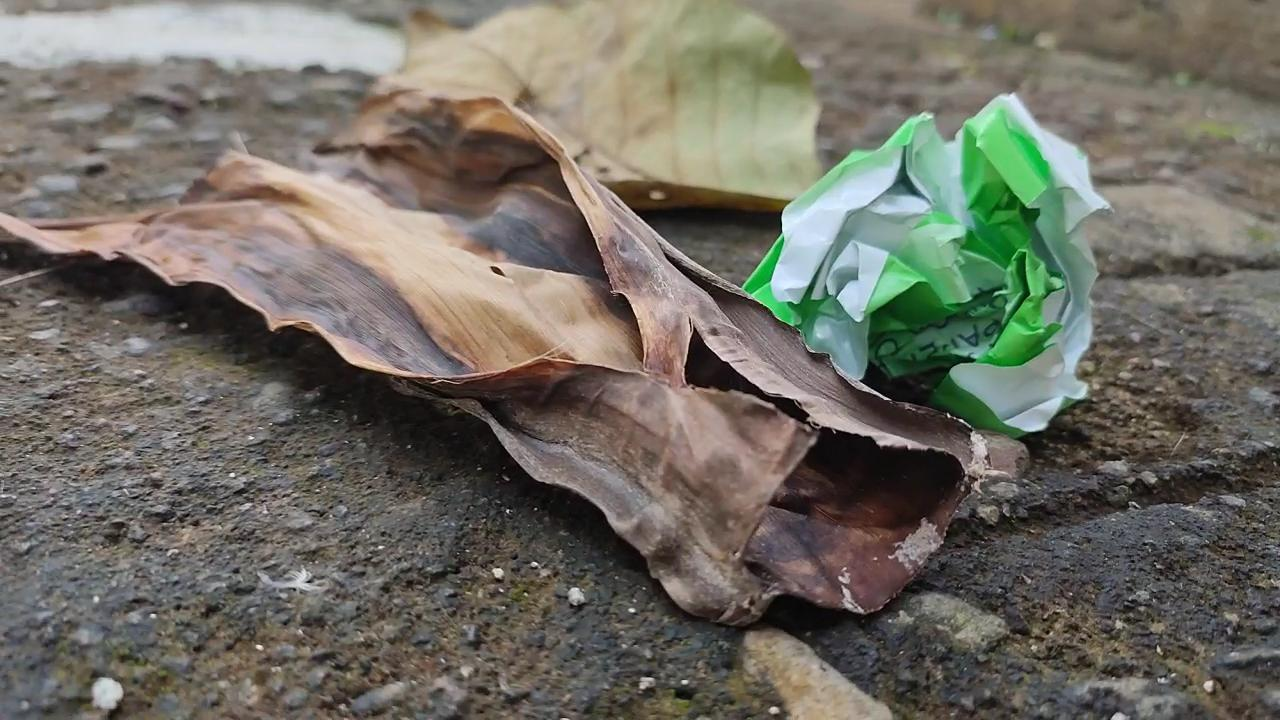Paper: (743, 76, 1105, 448)
